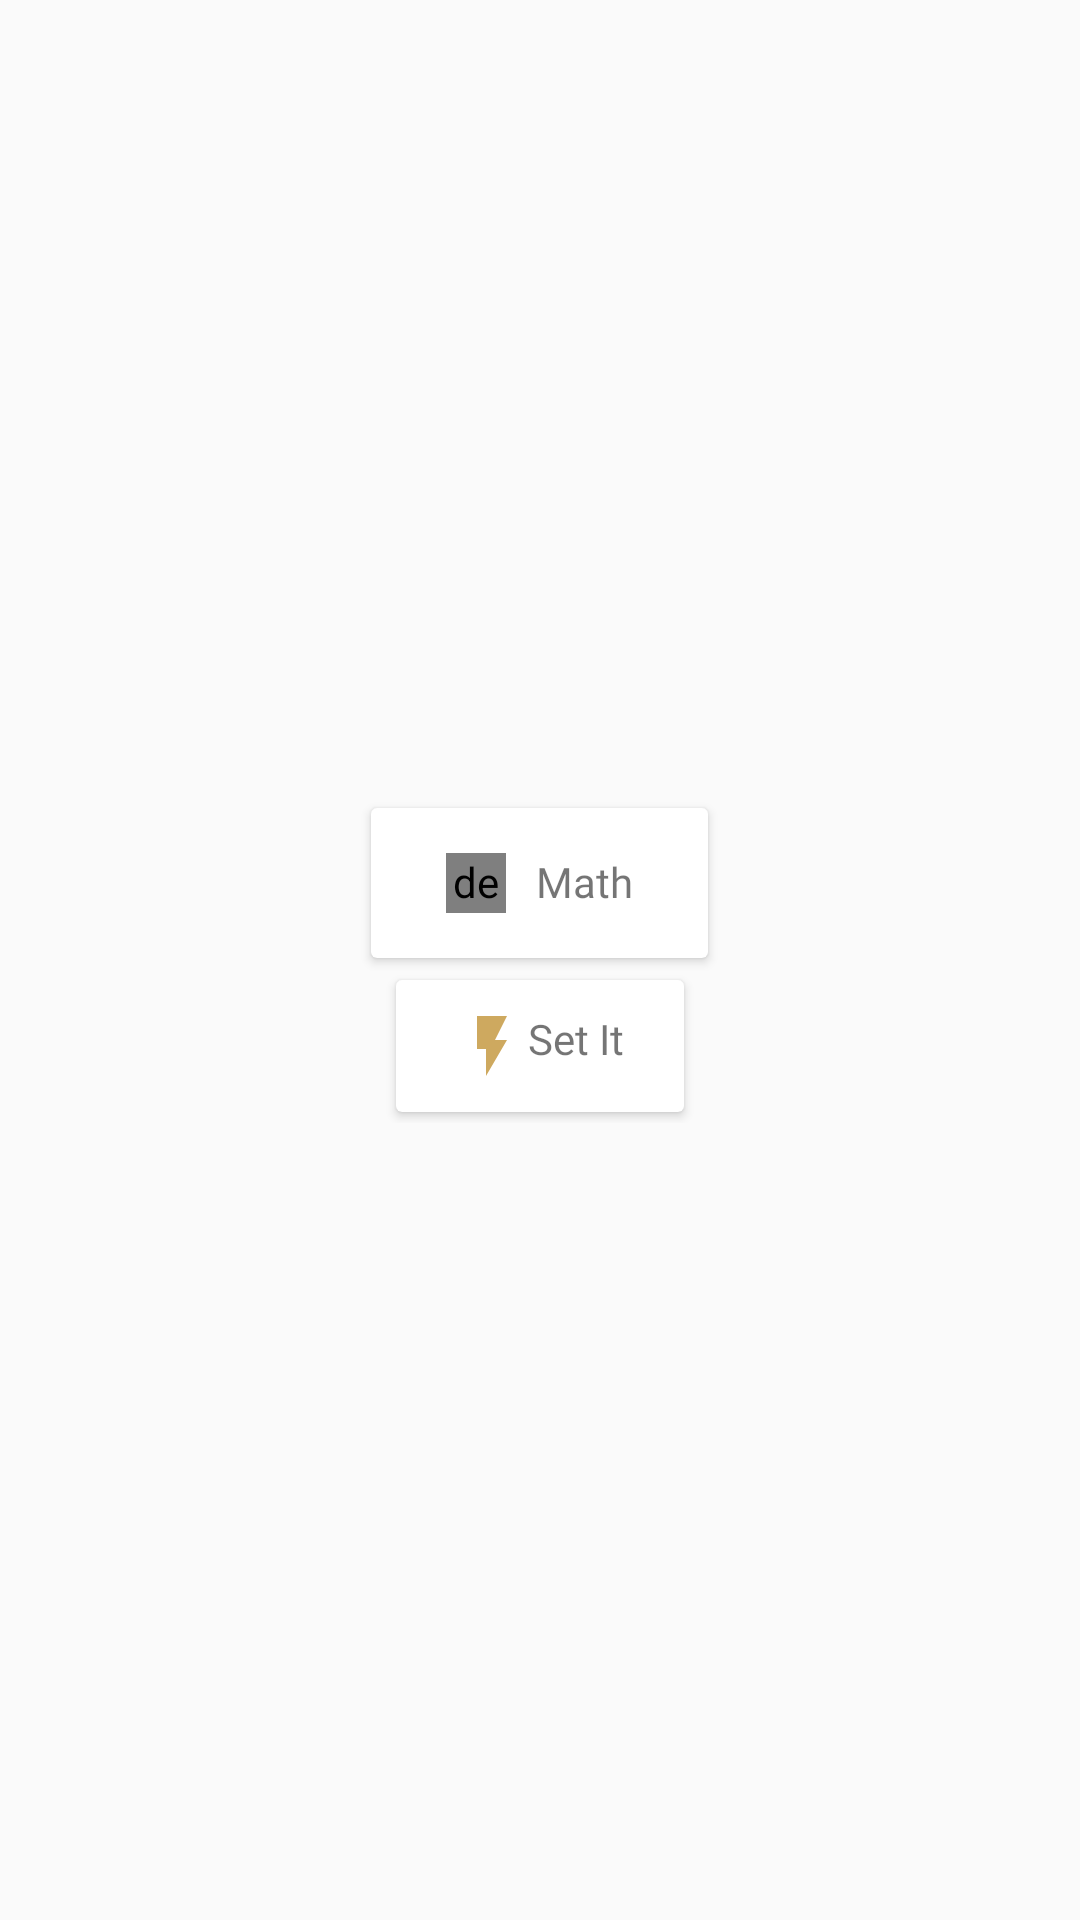

Screen size 1080x1920. Icon name, then its center in pixels as (x,y):
flash on: (492,1046)
